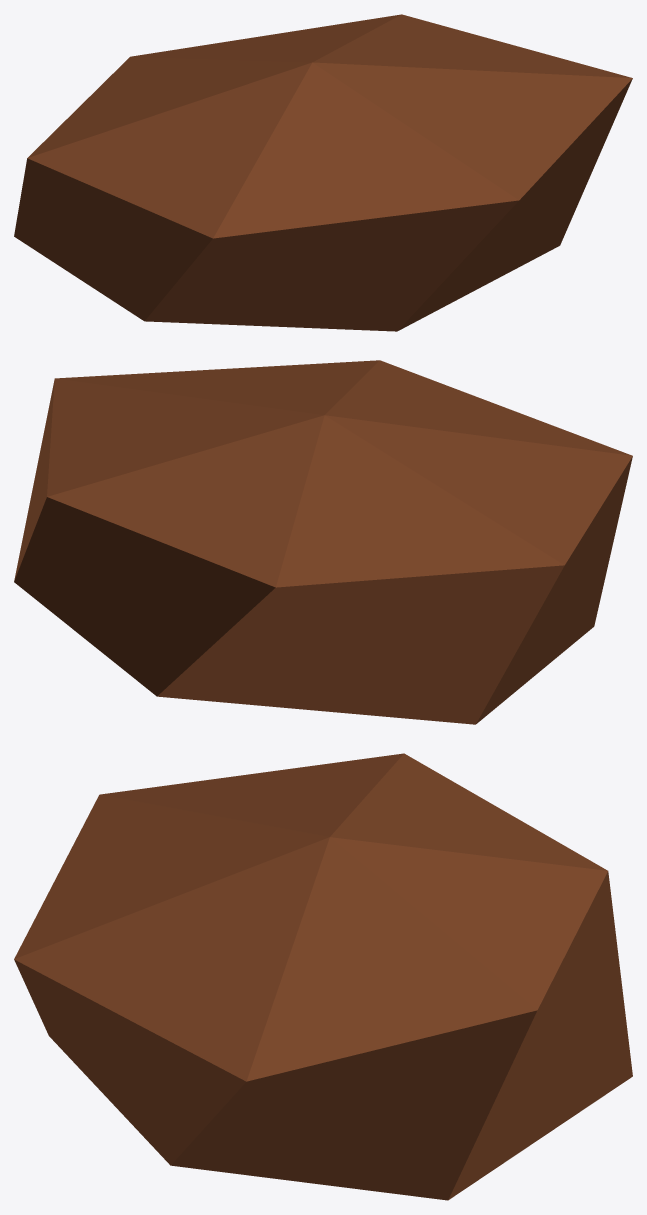
Rendered from wild-rose-far.glb.
3 renders of one model, top to bottom at view 1: azimuth 30°, elevation 25°; view 2: azimuth 150°, elevation 25°; view 3: azimuth 270°, elevation 25°, orthographic. The views are drawn at different scales.
Visible parts, largest first — view 1: wild-rose-far / foliage; view 2: wild-rose-far / foliage; view 3: wild-rose-far / foliage.
Boxes of the visible parts, x1=… form: wild-rose-far / foliage: x1=14, y1=14, x2=632, y2=331; wild-rose-far / foliage: x1=14, y1=360, x2=632, y2=724; wild-rose-far / foliage: x1=14, y1=753, x2=632, y2=1200.
Bounding box in the file's own units: 0.8637 × 0.36 × 0.7004.
